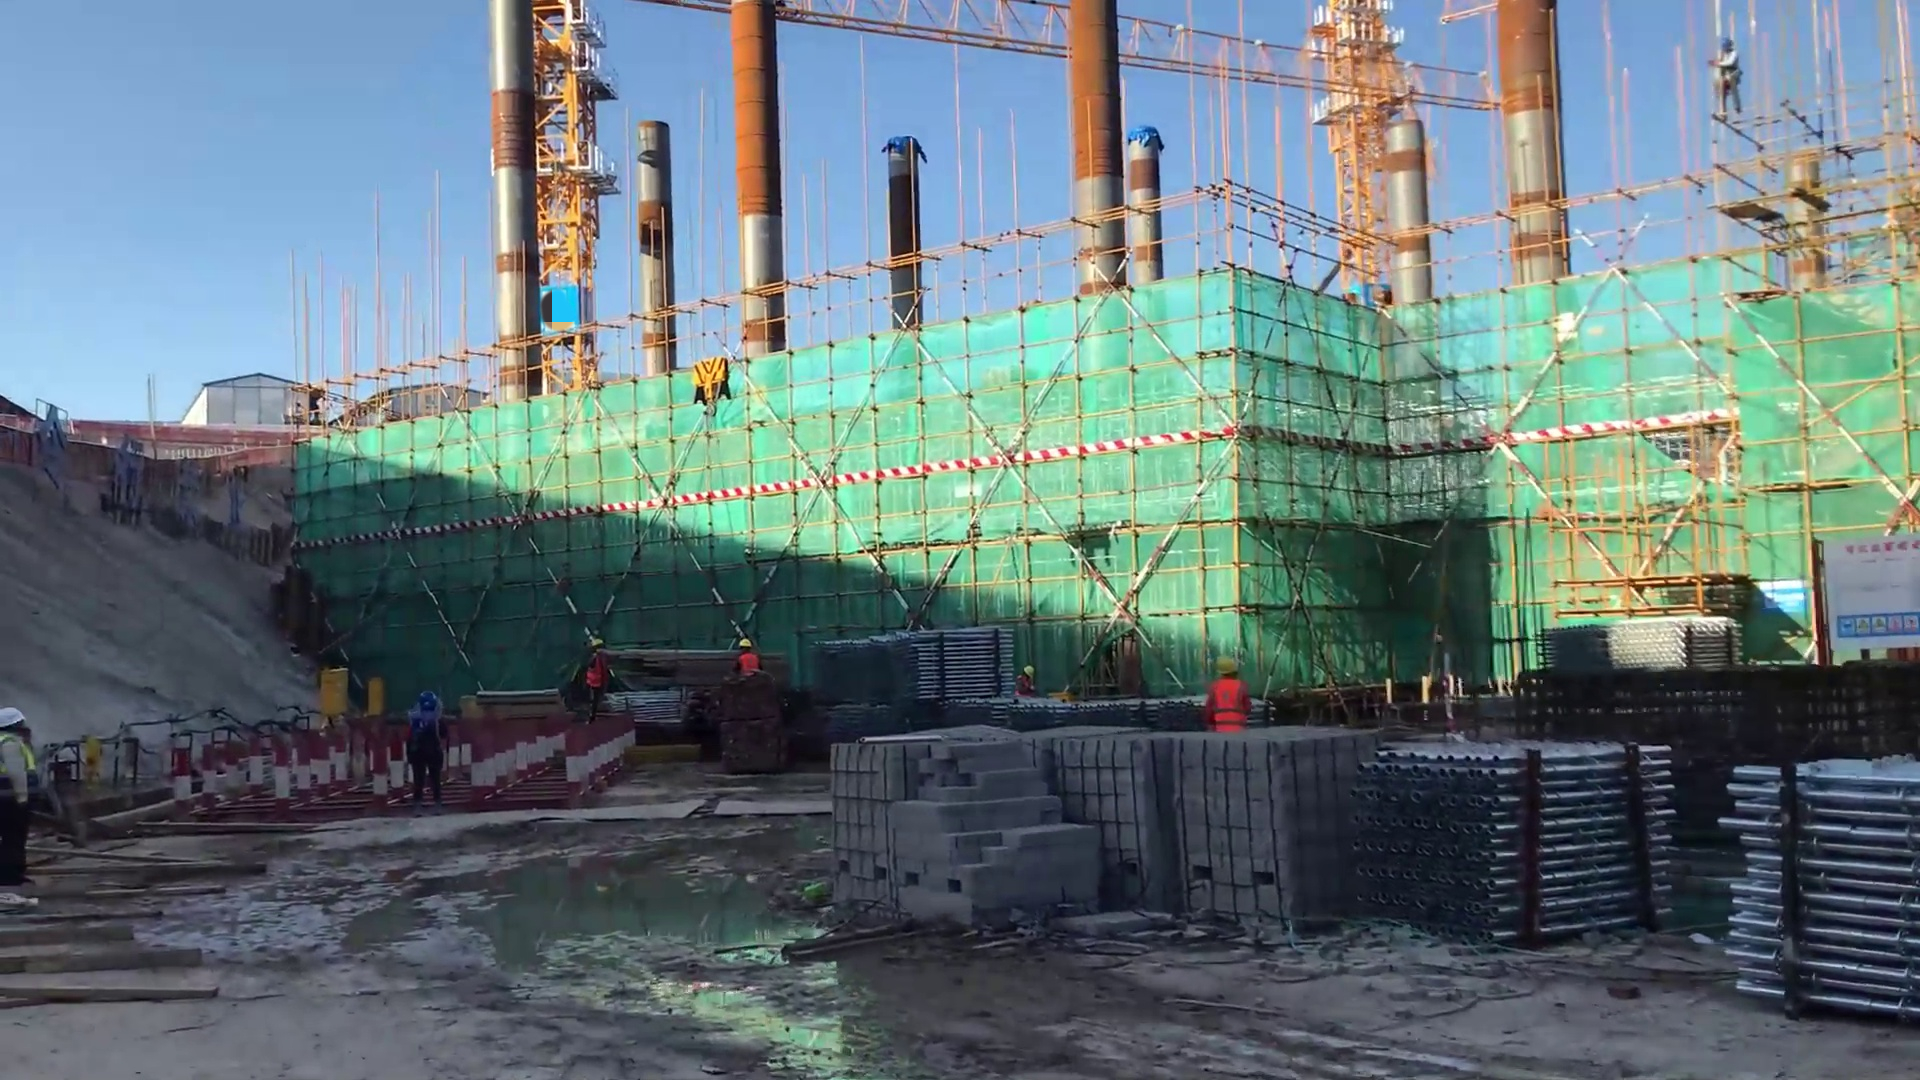brick: (815, 733, 1374, 935)
ebox: (313, 668, 357, 726), (367, 671, 397, 719)
helmet: (1, 704, 44, 746), (404, 688, 442, 727), (1204, 650, 1241, 683), (581, 633, 606, 655), (738, 634, 758, 647), (1020, 662, 1035, 678)
hook: (685, 350, 733, 419)
person: (1, 702, 40, 911), (401, 687, 450, 816), (1200, 650, 1250, 735), (1707, 33, 1750, 113)
scaffold: (1374, 724, 1673, 956), (1715, 742, 1920, 1049), (1531, 611, 1735, 679), (810, 633, 1006, 704)
slogan: (1828, 606, 1920, 641)
vest: (3, 751, 38, 817), (1209, 680, 1247, 741), (582, 655, 613, 694), (736, 654, 762, 680), (1015, 677, 1037, 698)
